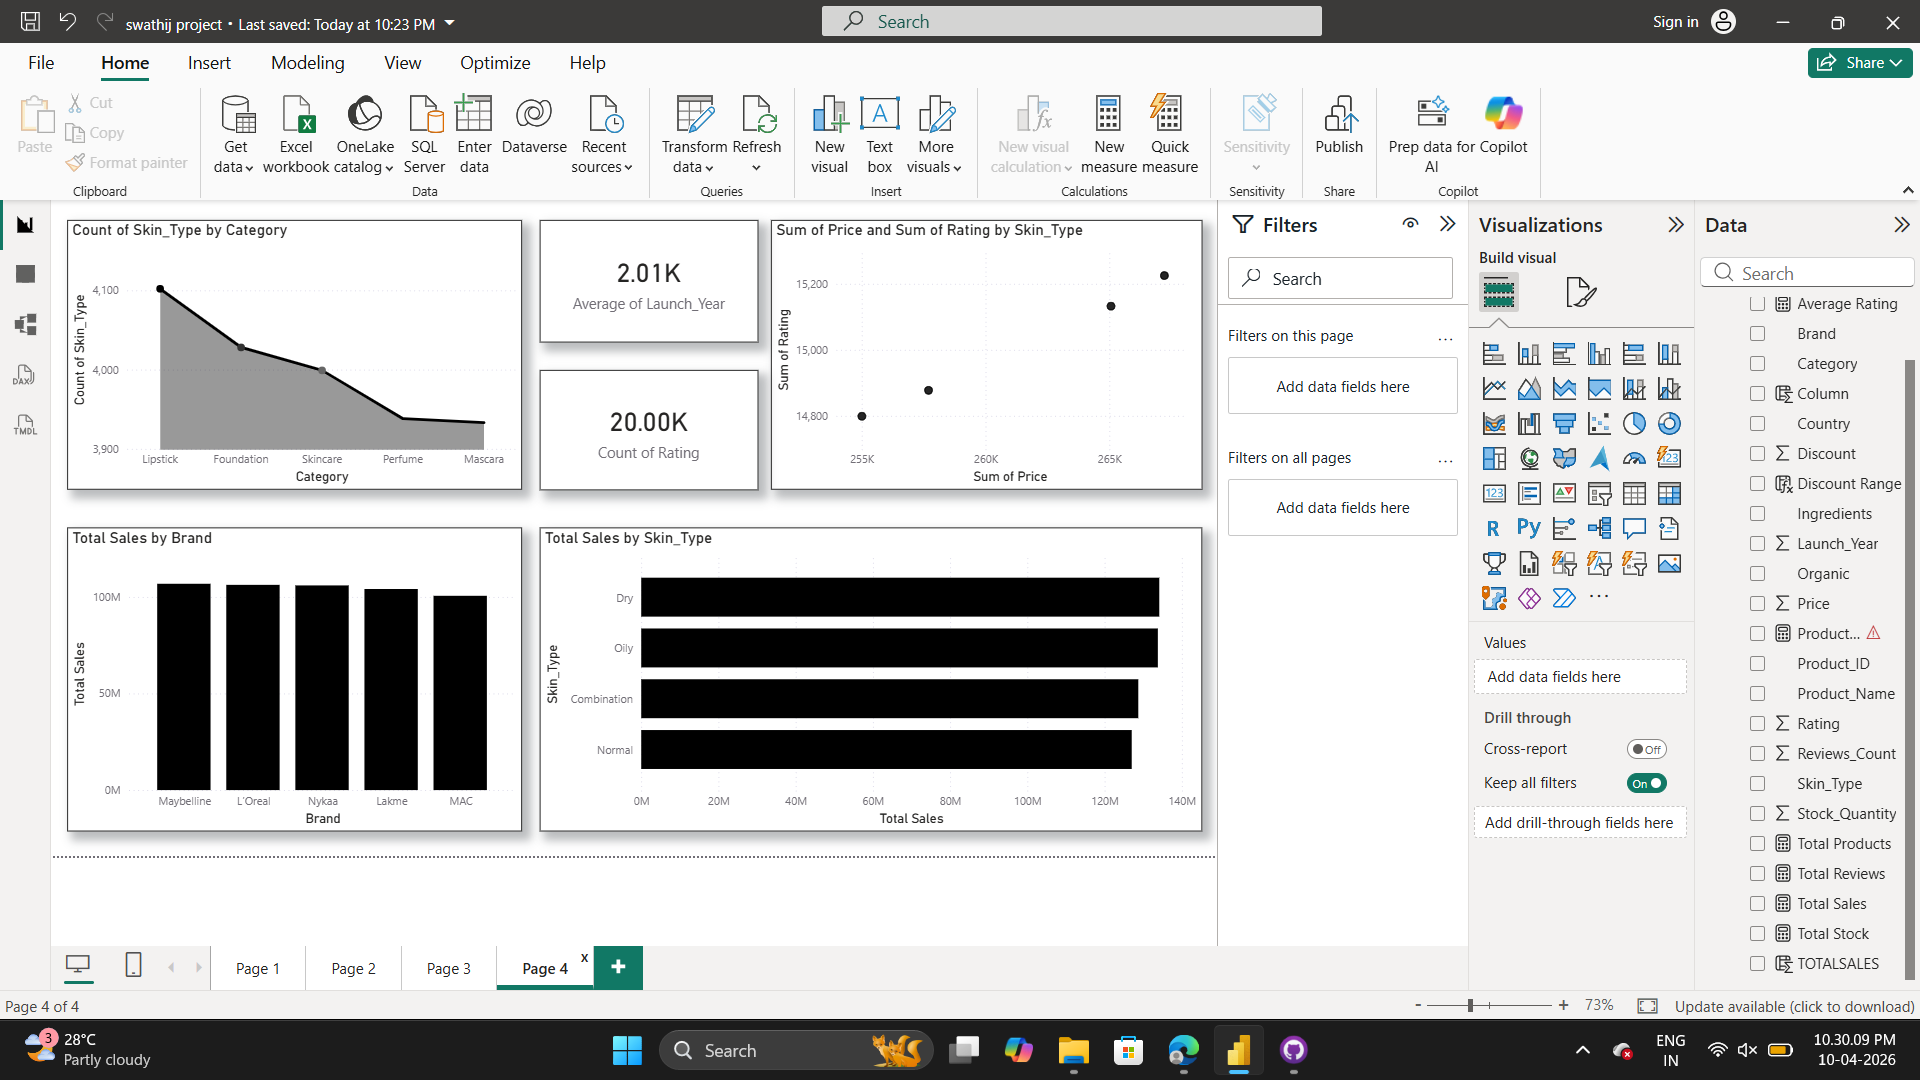

Layout of this report page (visuals, bound fields, positions):
{"tool":"powerbi","page":{"name":"Page 4","canvas":[1280,720],"ordinal":3},"visuals":[{"type":"clusteredColumnChart","fields":{"Category":["cosmetics_dataset_20000-1 (1).Brand"],"Y":["cosmetics_dataset_20000-1 (1).Total Sales"]},"box":[17.8,359.5,499.5,333.4],"z":0},{"type":"stackedAreaChart","fields":{"Category":["cosmetics_dataset_20000-1 (1).Category"],"Y":["CountNonNull(cosmetics_dataset_20000-1 (1).Skin_Type)"]},"box":[17.8,22,499.5,296.4],"z":1000},{"type":"scatterChart","fields":{"X":["Sum(cosmetics_dataset_20000-1 (1).Price)"],"Y":["Sum(cosmetics_dataset_20000-1 (1).Rating)"],"Category":["cosmetics_dataset_20000-1 (1).Skin_Type"]},"box":[790.4,22,473.4,296.4],"z":2000},{"type":"card","fields":{"Values":["Avg(cosmetics_dataset_20000-1 (1).Launch_Year)"]},"box":[536.5,22,240.1,134.5],"z":3000},{"type":"card","fields":{"Values":["CountNonNull(cosmetics_dataset_20000-1 (1).Rating)"]},"box":[536.5,186.6,240.1,131.7],"z":4000},{"type":"clusteredBarChart","fields":{"Category":["cosmetics_dataset_20000-1 (1).Skin_Type"],"Y":["cosmetics_dataset_20000-1 (1).Total Sales"]},"box":[536.5,359.5,727.3,333.4],"z":5000}]}

Visuals, with their boxes on the page's 1280x720 design canvas (x1, y1, x2, y2). These are canvas units, not pixel positions in the 1920x1080 screenshot, which may show the page scaled, cropped or inside an application window:
clusteredColumnChart - cosmetics_dataset_20000-1 (1).Brand x cosmetics_dataset_20000-1 (1).Total Sales: select_region(18, 360, 517, 693)
stackedAreaChart - cosmetics_dataset_20000-1 (1).Category x CountNonNull(cosmetics_dataset_20000-1 (1).Skin_Type): select_region(18, 22, 517, 318)
scatterChart - Sum(cosmetics_dataset_20000-1 (1).Price) x Sum(cosmetics_dataset_20000-1 (1).Rating): select_region(790, 22, 1264, 318)
card - Avg(cosmetics_dataset_20000-1 (1).Launch_Year): select_region(536, 22, 777, 156)
card - CountNonNull(cosmetics_dataset_20000-1 (1).Rating): select_region(536, 187, 777, 318)
clusteredBarChart - cosmetics_dataset_20000-1 (1).Skin_Type x cosmetics_dataset_20000-1 (1).Total Sales: select_region(536, 360, 1264, 693)
